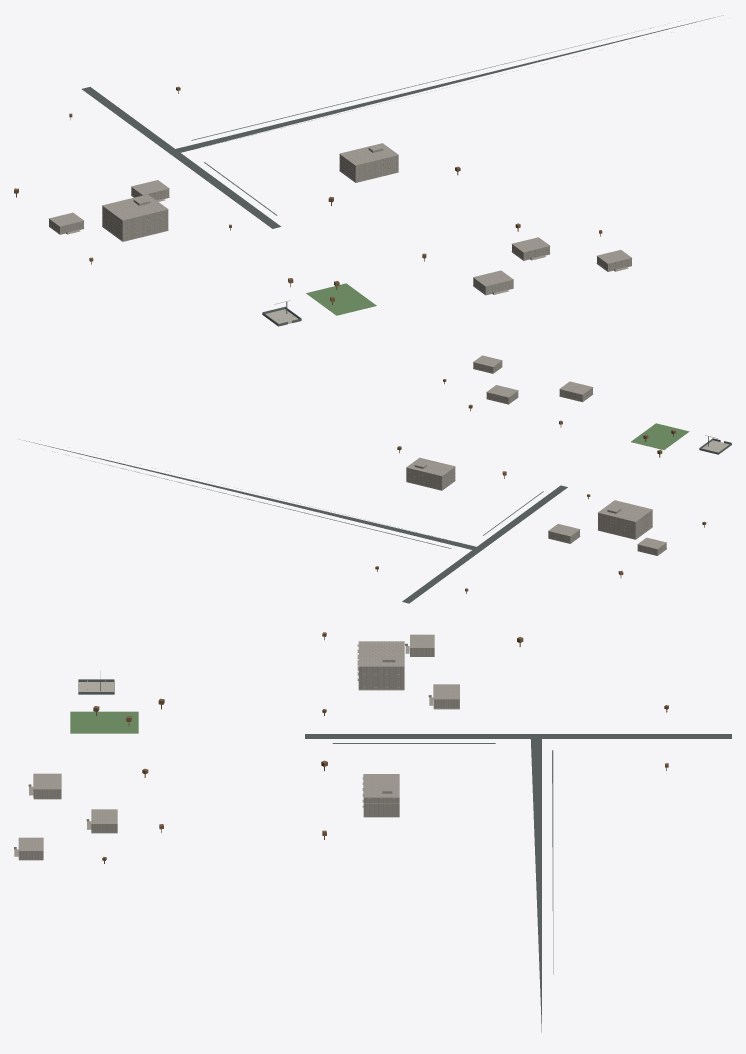
The model's file is cell_5_-5_lod1.gltf.
3 views of the same model, one above another, from view 1: azimuth 30°, elevation 25°; view 2: azimuth 150°, elevation 25°; view 3: azimuth 270°, elevation 25° (orthographic). The views are drawn at different scales.
Parts seen in each view (by area): view 1: LEKKI_APARTMENT_COURT_F, LEKKI_LOCAL_COLLECTOR_EXTENSION_WEST, LEKKI_POCKET_PARK_B, LEKKI_DRAIN_WEST_CHANNEL; view 2: LEKKI_APARTMENT_COURT_F, LEKKI_LOCAL_COLLECTOR_EXTENSION_WEST, LEKKI_POCKET_PARK_B, LEKKI_DRAIN_WEST_CHANNEL; view 3: LEKKI_APARTMENT_COURT_F, LEKKI_LOCAL_COLLECTOR_EXTENSION_WEST, LEKKI_POCKET_PARK_B, LEKKI_DRAIN_WEST_CHANNEL.
Boxes of the visible parts, x1,y1,x2,y2 form: LEKKI_APARTMENT_COURT_F: [48, 143, 631, 295]; LEKKI_LOCAL_COLLECTOR_EXTENSION_WEST: [82, 15, 723, 228]; LEKKI_POCKET_PARK_B: [306, 283, 376, 315]; LEKKI_DRAIN_WEST_CHANNEL: [191, 21, 678, 326]; LEKKI_APARTMENT_COURT_F: [406, 355, 666, 555]; LEKKI_LOCAL_COLLECTOR_EXTENSION_WEST: [19, 439, 567, 603]; LEKKI_POCKET_PARK_B: [631, 423, 689, 449]; LEKKI_DRAIN_WEST_CHANNEL: [52, 436, 731, 548]; LEKKI_APARTMENT_COURT_F: [14, 634, 459, 860]; LEKKI_LOCAL_COLLECTOR_EXTENSION_WEST: [305, 734, 731, 1032]; LEKKI_POCKET_PARK_B: [70, 711, 138, 733]; LEKKI_DRAIN_WEST_CHANNEL: [78, 679, 553, 974].
Bounding box in the file's own units: 581 × 18.01 × 441.
Materials: 8 (1 with a texture image).
